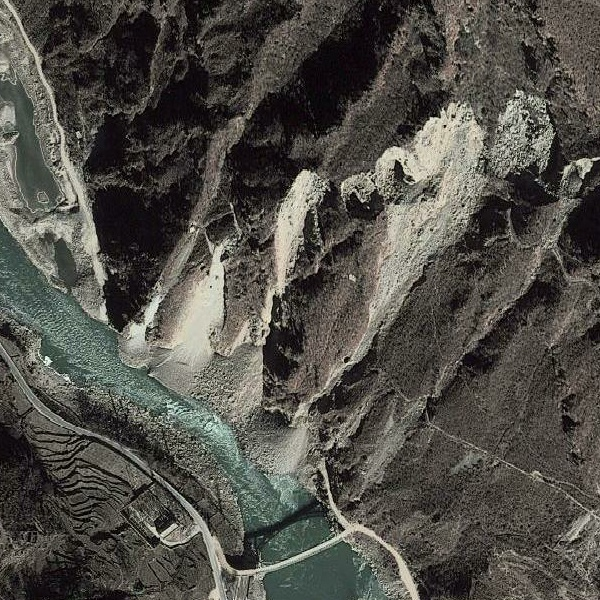slope: (338, 85, 563, 334), (157, 247, 229, 374), (273, 168, 328, 290)
